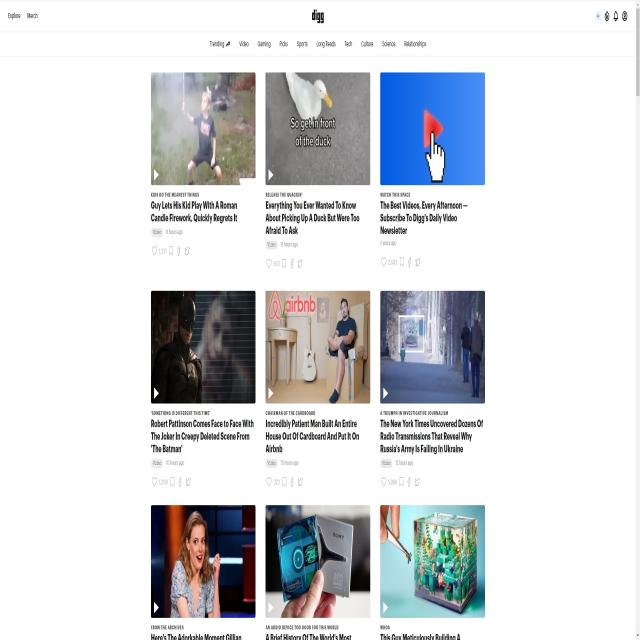menu-bar: (197, 28, 433, 51)
